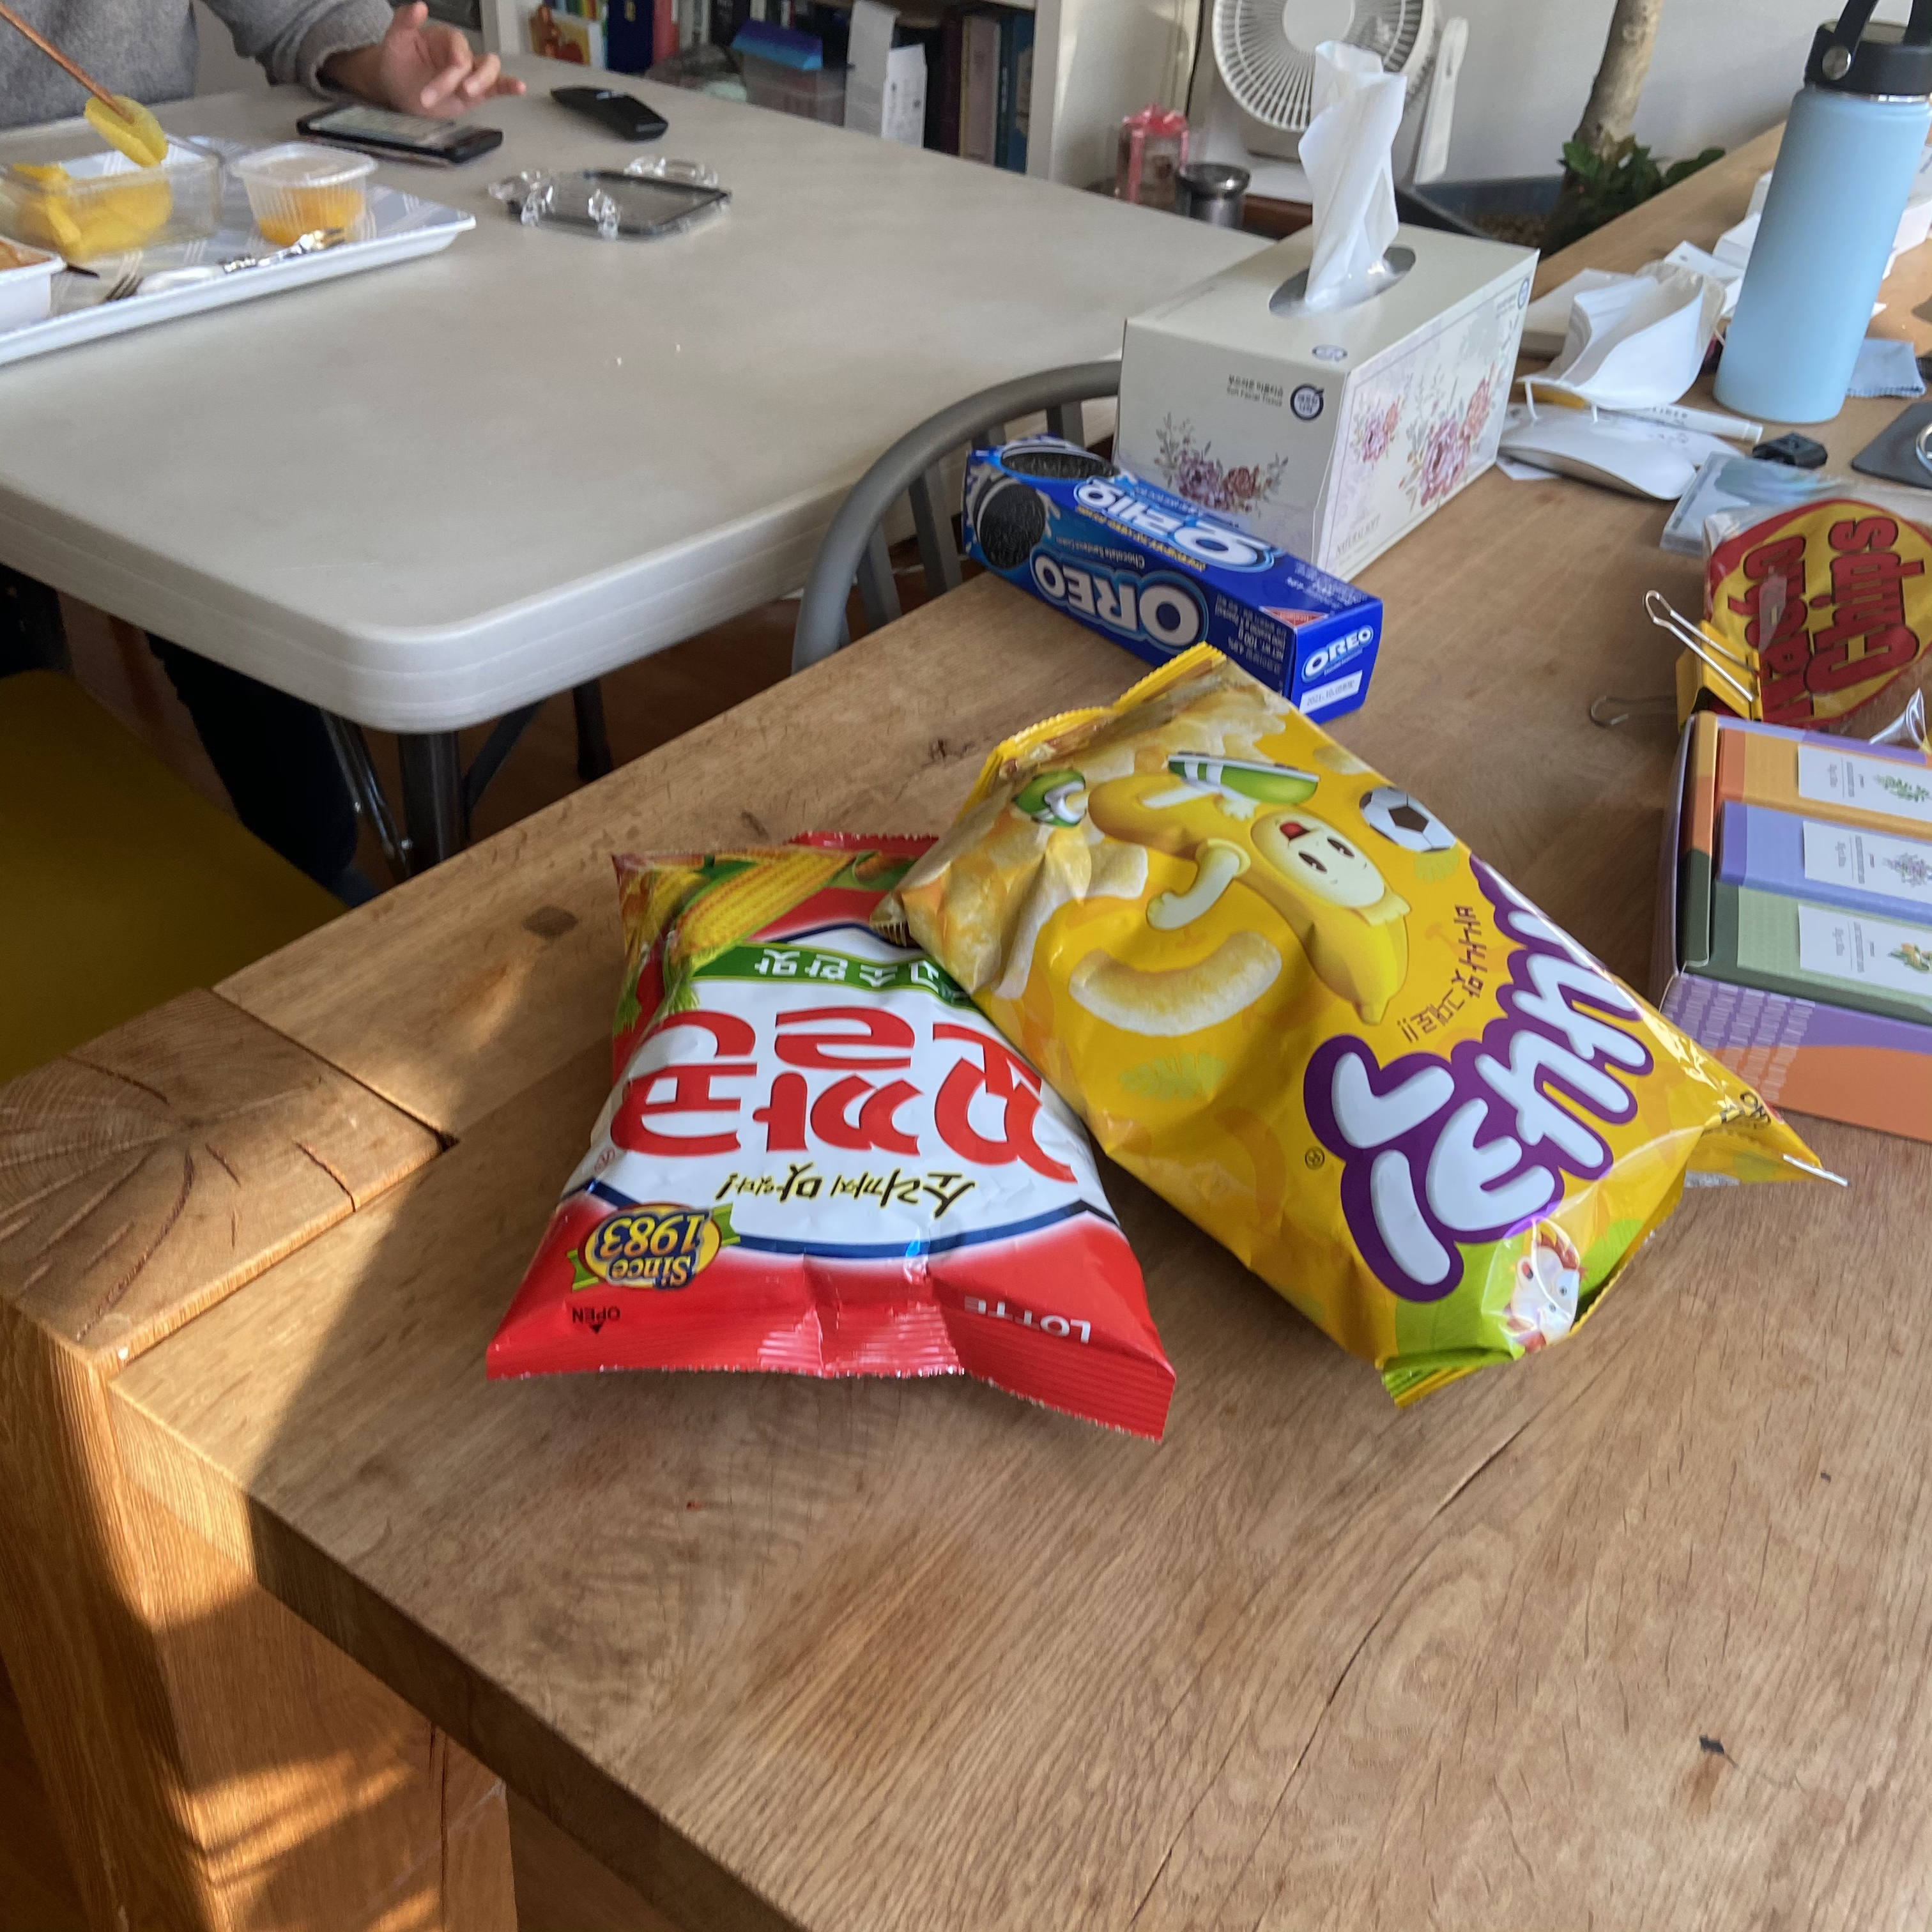banana: (888, 633, 1865, 1415)
ggoggalcon: (465, 821, 1203, 1461)
oreo: (938, 421, 1392, 747)
